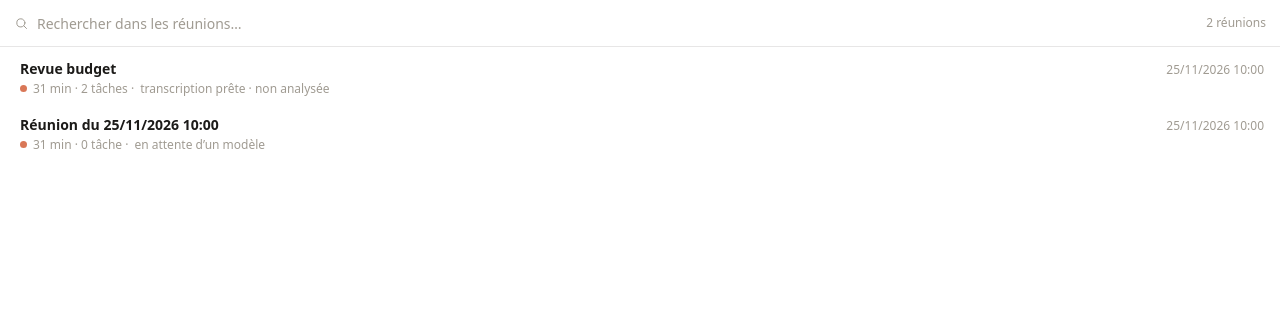
MeetingsView › lists meetings, opens the timestamped transcript and exports Markdown
Later steps or results of the test are not shown.
Expected: the text "31 min · 2 tâches · transcription prête · non analysée" is shown, [20, 80, 330, 97]
Expected: the text "en attente d’un modèle" is shown, [134, 136, 265, 153]
Click the text "Revue budget".
click(68, 68)  # box [20, 59, 116, 78]
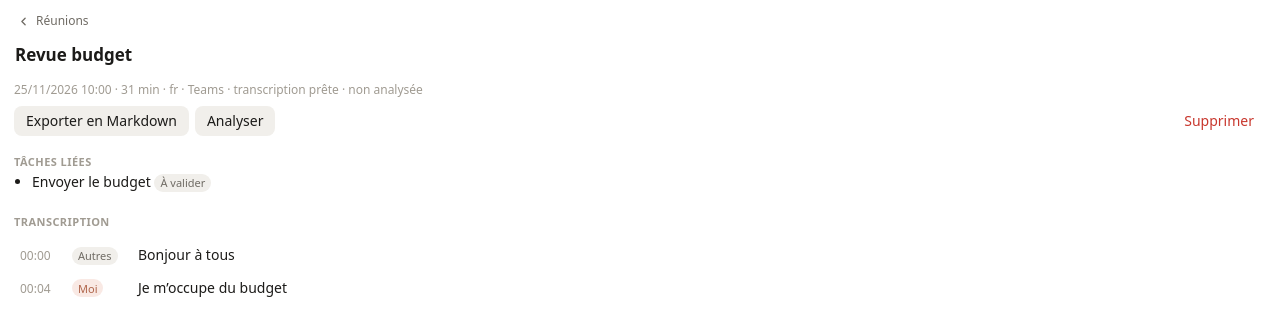
Now the text "Bonjour à tous" is shown, box [138, 245, 235, 264]
Now the text "Moi" is shown, box [72, 280, 104, 298]
Now the text "Autres" is shown, box [72, 247, 118, 265]
